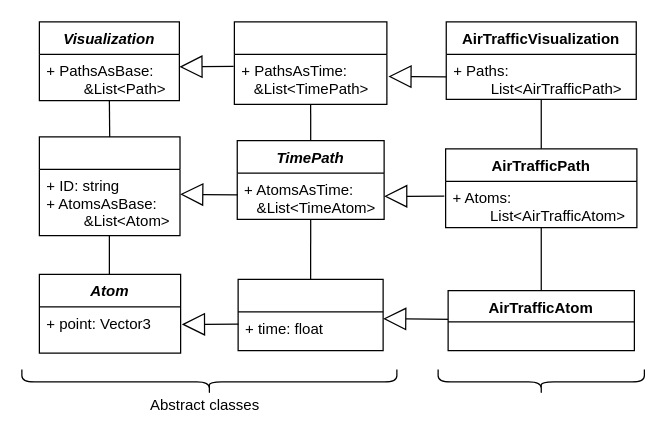
The diagram is 666 pixels wide and 436 high, and some of its shapes have lost their labels. Each missing label, with the box of its shape:
Concrete implementation: (437, 368, 644, 394)
Path: (38, 136, 180, 236)
TimeAtom: (237, 278, 383, 351)
TimeVisualization: (233, 21, 387, 104)
